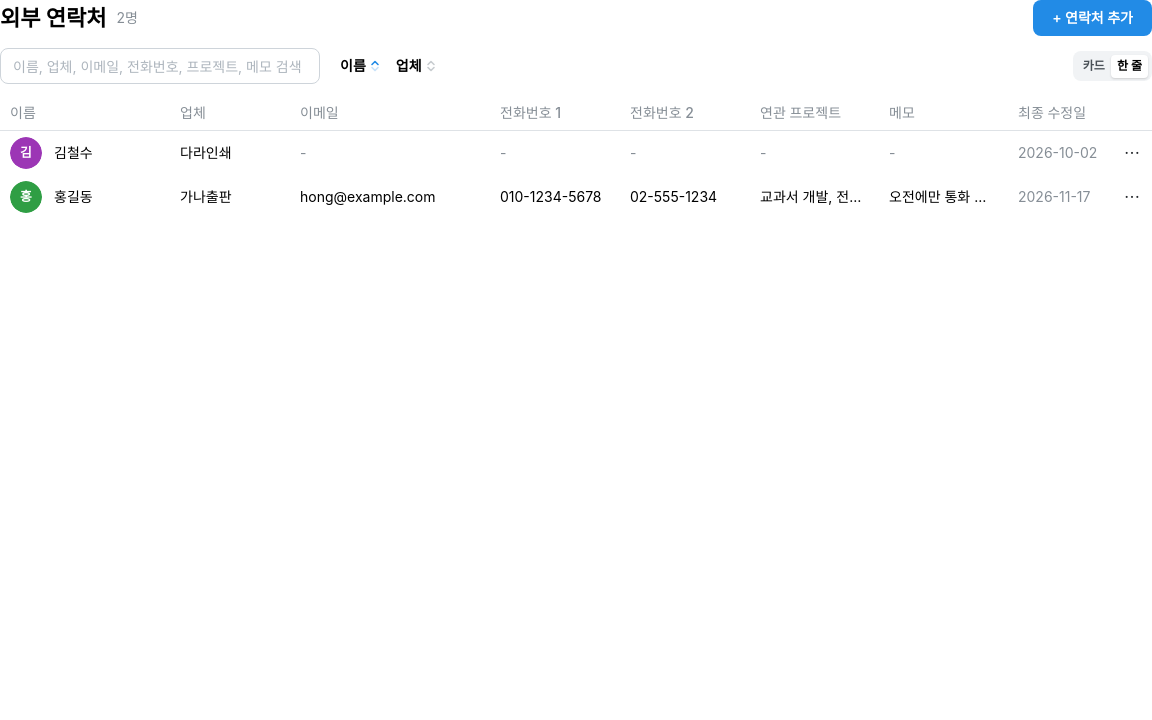
it: ContactsPage › 한 줄 보기에서도 ⋯ 메뉴로 수정 창을 연다
Click the button named "홍길동 메뉴": coordinates (1132, 197) [1118,183,1146,211]
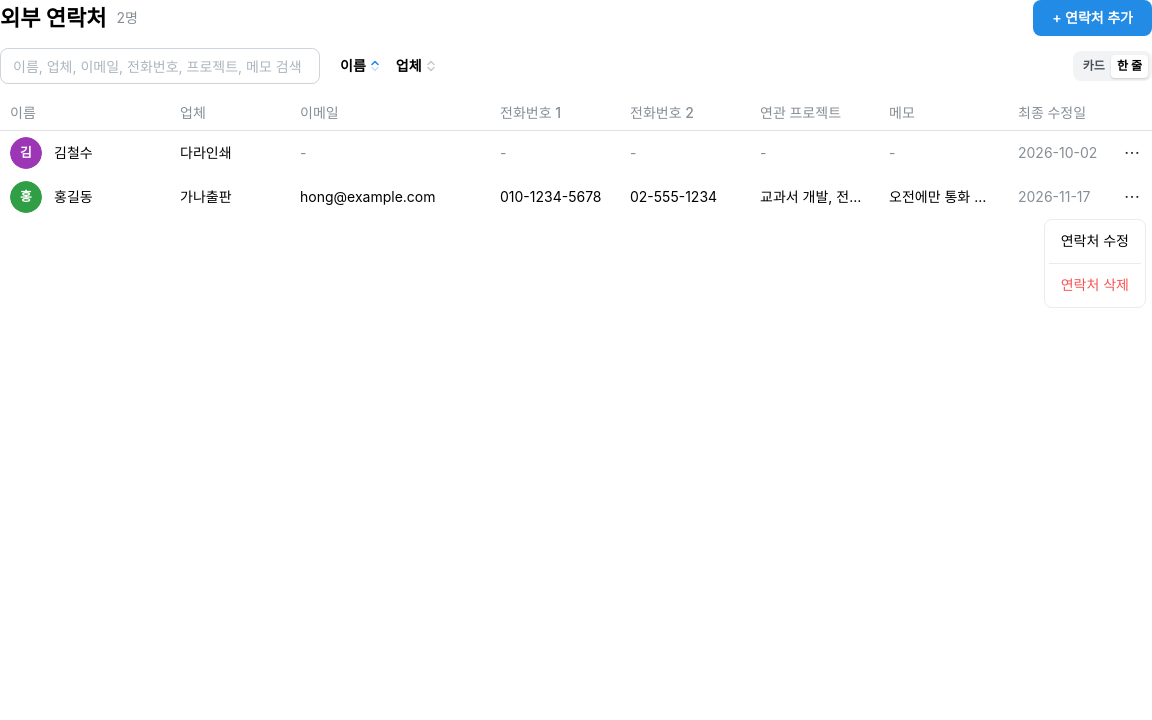
Click the menu item "연락처 수정": coordinates (1095, 241) [1049,224,1141,259]
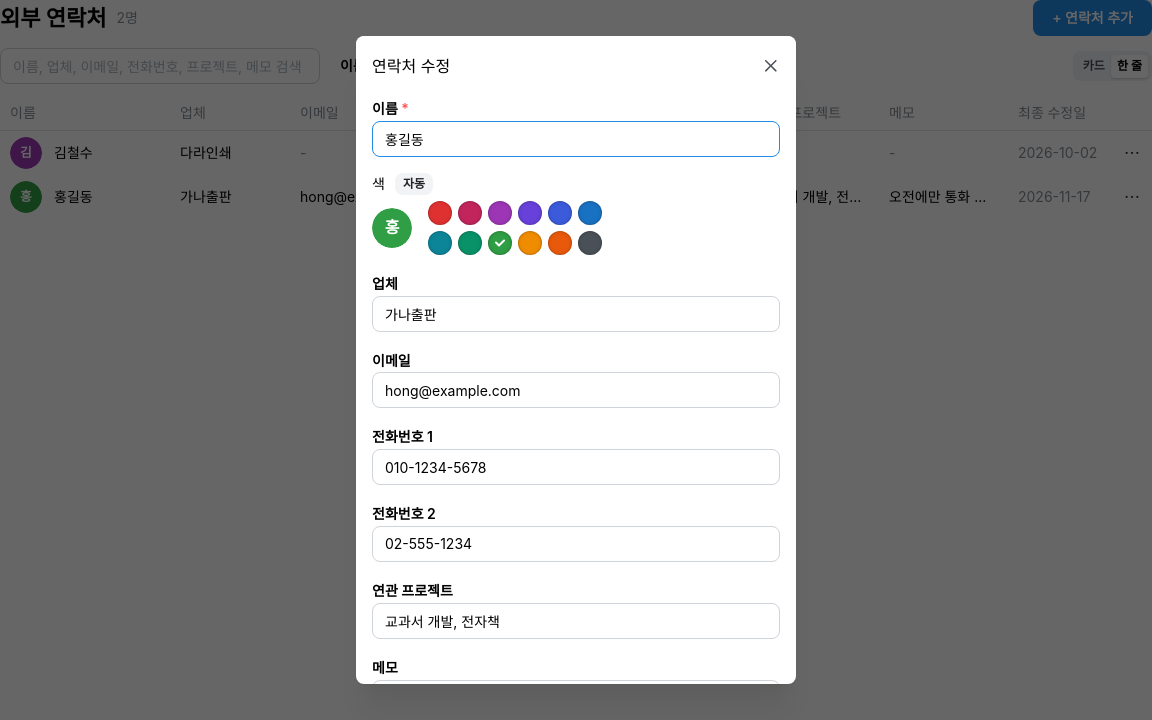
Result: the field showing "가나출판" is shown at [372,296,780,332]
